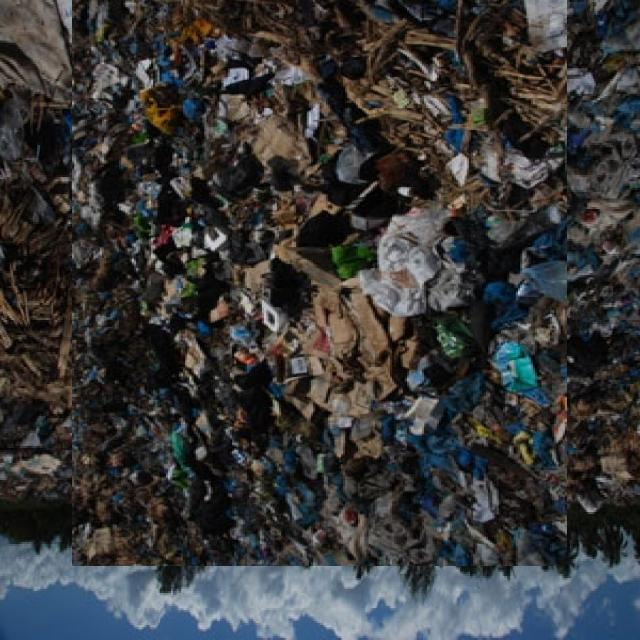garbage: (36, 0, 603, 531)
